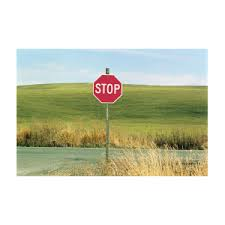Stop: (92, 72, 127, 107)
